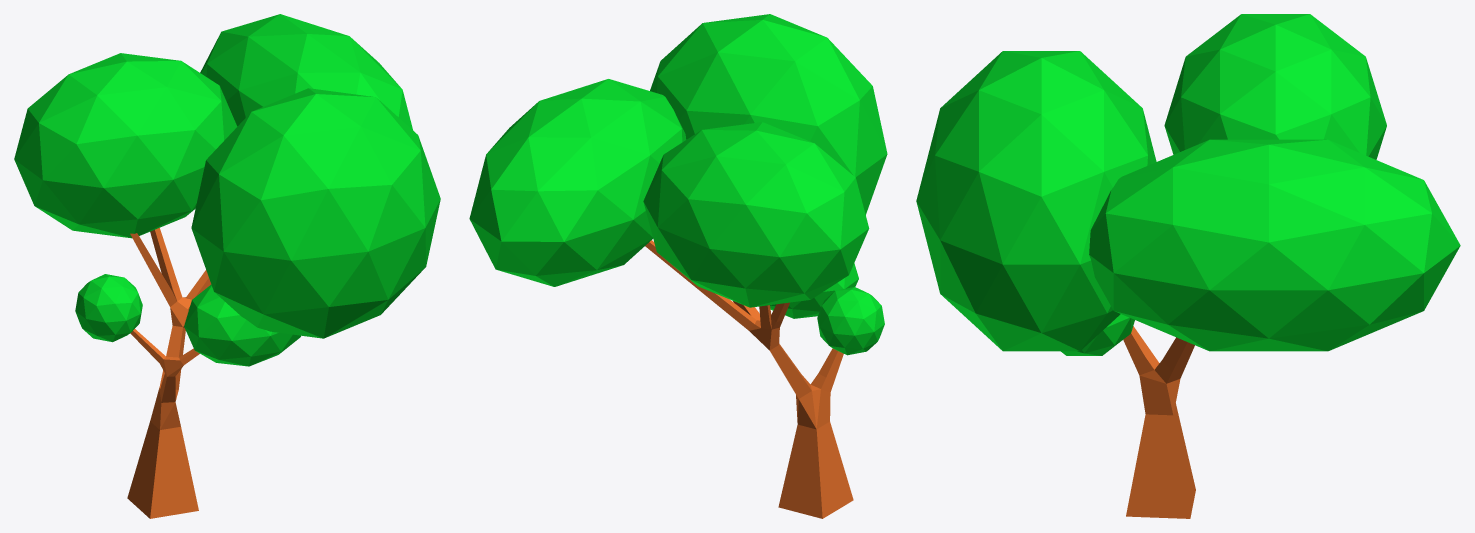
The model's file is dzrewo1.fbx.
3 views of the same model, side by side, from view 1: azimuth 30°, elevation 25°; view 2: azimuth 150°, elevation 25°; view 3: azimuth 270°, elevation 25° (orthographic). The views are drawn at different scales.
Visible parts, largest first — view 1: Icosphere.002, Icosphere, Icosphere.001, Cube, Icosphere.004, Icosphere.003; view 2: Icosphere, Icosphere.001, Icosphere.002, Cube, Icosphere.003, Icosphere.004; view 3: Icosphere.001, Icosphere.002, Icosphere, Cube, Icosphere.004.
Boxes of the visible parts, x1,y1,x2,y2 form: Icosphere.002: (191,88,440,338); Icosphere: (14,53,237,238); Icosphere.001: (200,14,413,130); Cube: (127,228,211,518); Icosphere.004: (184,284,300,366); Icosphere.003: (75,274,142,342); Icosphere: (643,122,869,307); Icosphere.001: (469,79,686,286); Icosphere.002: (650,14,887,214); Cube: (645,240,853,518); Icosphere.003: (817,287,884,355); Icosphere.004: (770,263,858,318); Icosphere.001: (1089,139,1460,351); Icosphere.002: (916,51,1156,351); Icosphere: (1164,14,1386,159); Cube: (1123,326,1195,518); Icosphere.004: (1061,314,1134,355).
Bounding box in the file's own units: 377 × 432 × 420.
